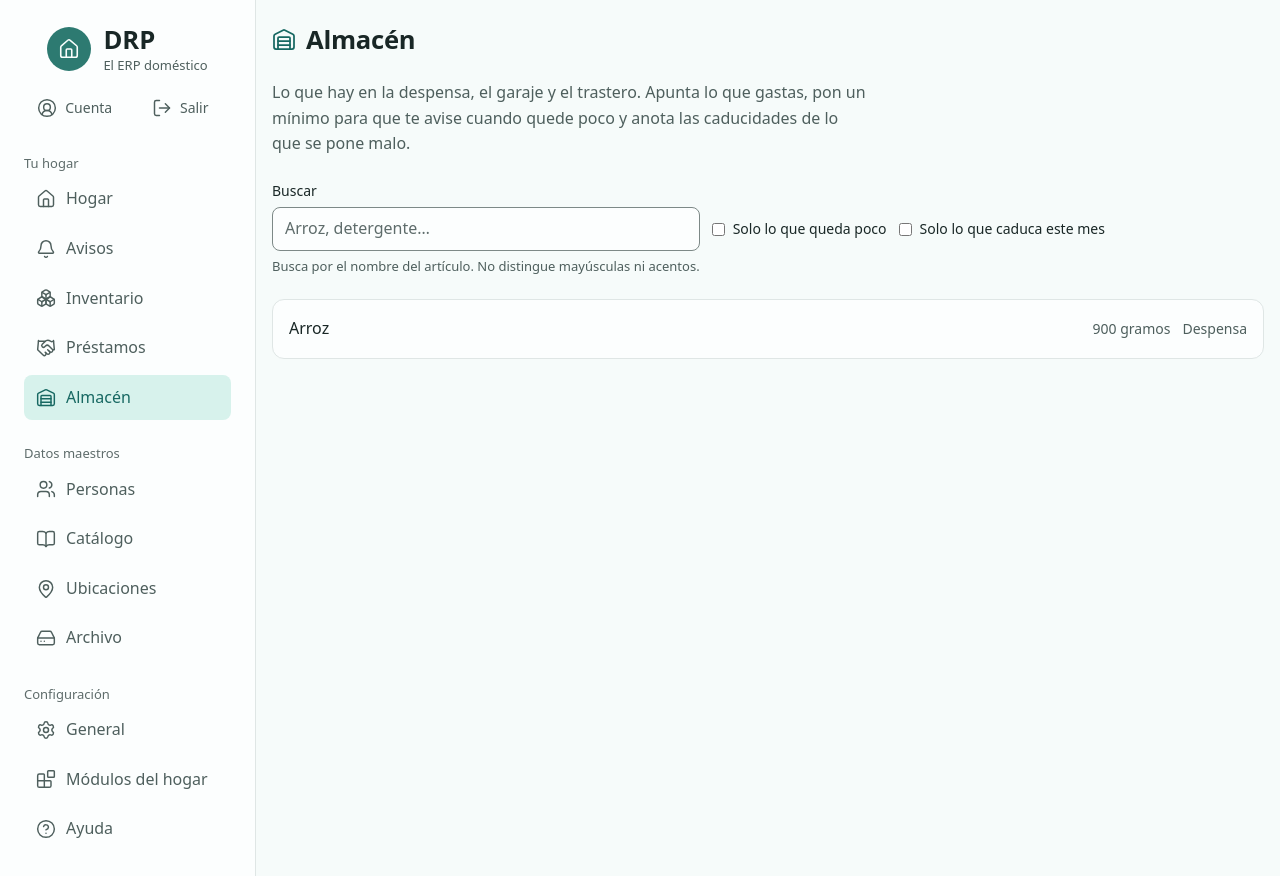
Scenario: apuntar un consumo › pide lo GASTADO y no lo que queda, que es la frontera con el core
Expected: the heading "Almacén" is shown, left=306, top=24, right=415, bottom=56
Click the button "Arroz 900 gramos Despensa": (309, 328) left=273, top=300, right=1263, bottom=358
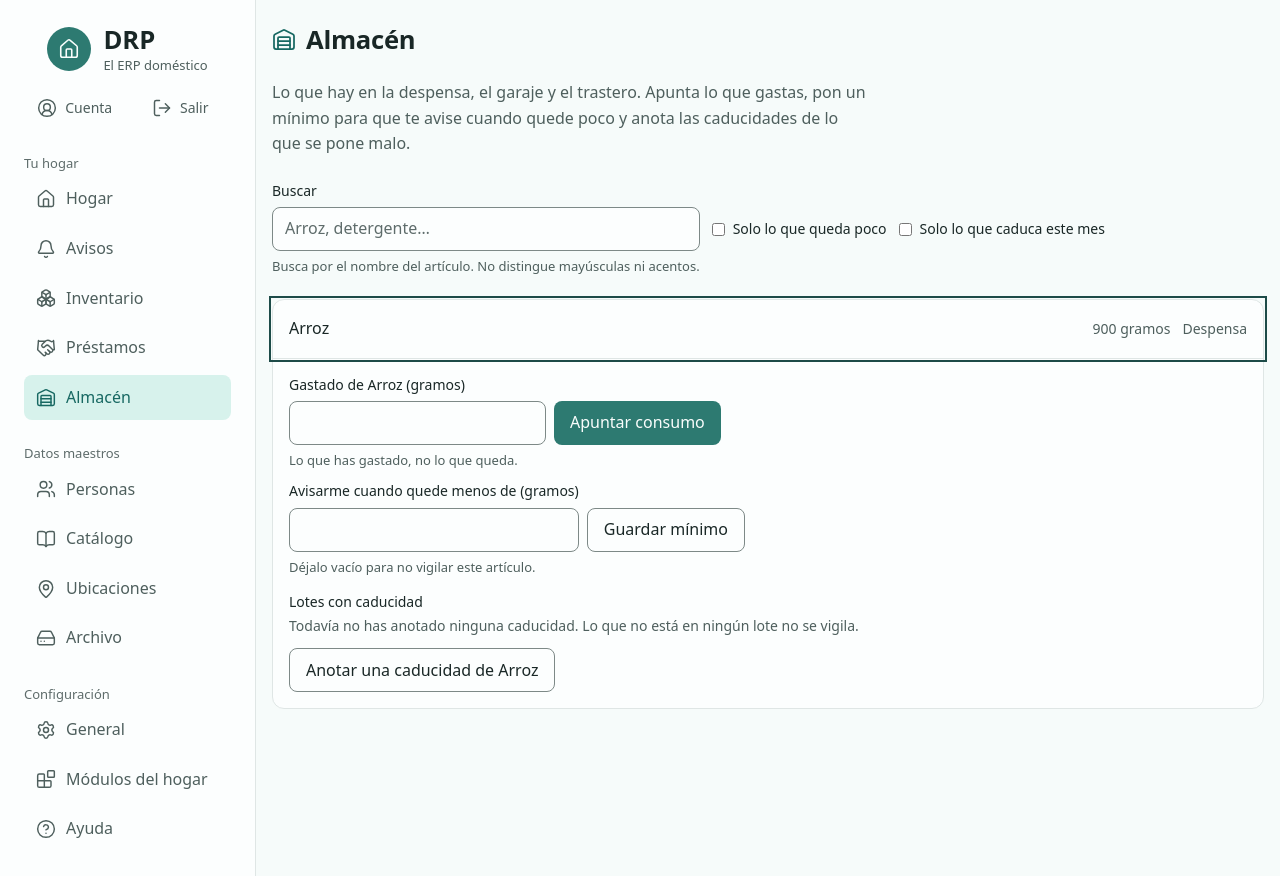
Result: the number field labelled "Gastado de Arroz (gramos)" is shown at left=289, top=401, right=546, bottom=445
Result: the text "Lo que has gastado, no lo que queda." is shown at left=289, top=451, right=546, bottom=469
